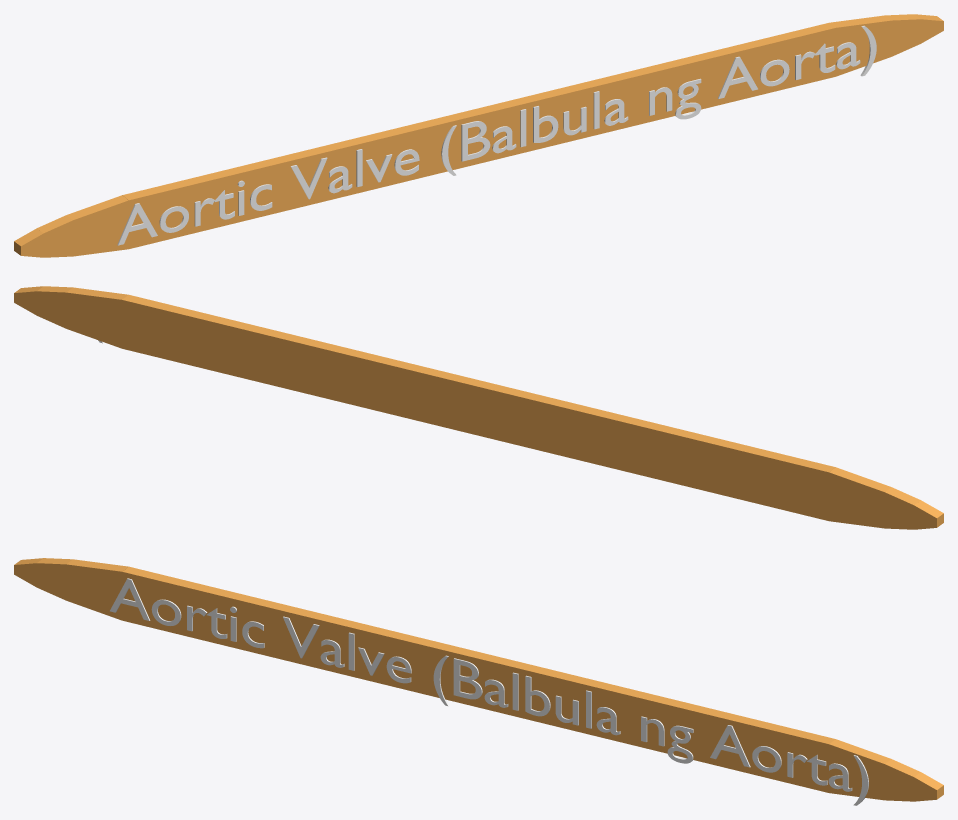
Rendered from txtAorticValve.fbx.
3 views of the same model, one above another, from view 1: azimuth 30°, elevation 25°; view 2: azimuth 150°, elevation 25°; view 3: azimuth 330°, elevation 25° (orthographic).
Parts seen in each view (by area): view 1: TagContainer.106, Text.108; view 2: TagContainer.106; view 3: TagContainer.106, Text.108.
Boxes of the visible parts, x1,y1,x2,y2 form: TagContainer.106: (14,14,943,257); Text.108: (117,25,876,245); TagContainer.106: (14,286,943,529); TagContainer.106: (14,558,943,801); Text.108: (110,578,868,805).
Bounding box in the file's own units: 816 × 45.81 × 11.84.
